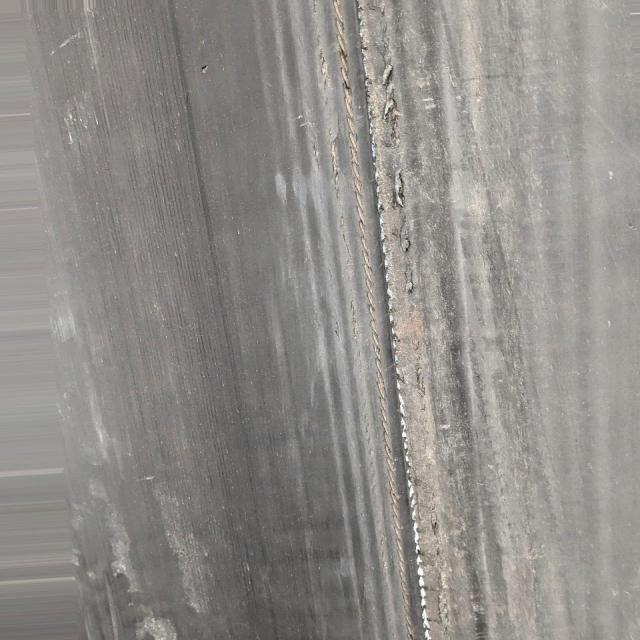Wear: (302, 0, 499, 640)
